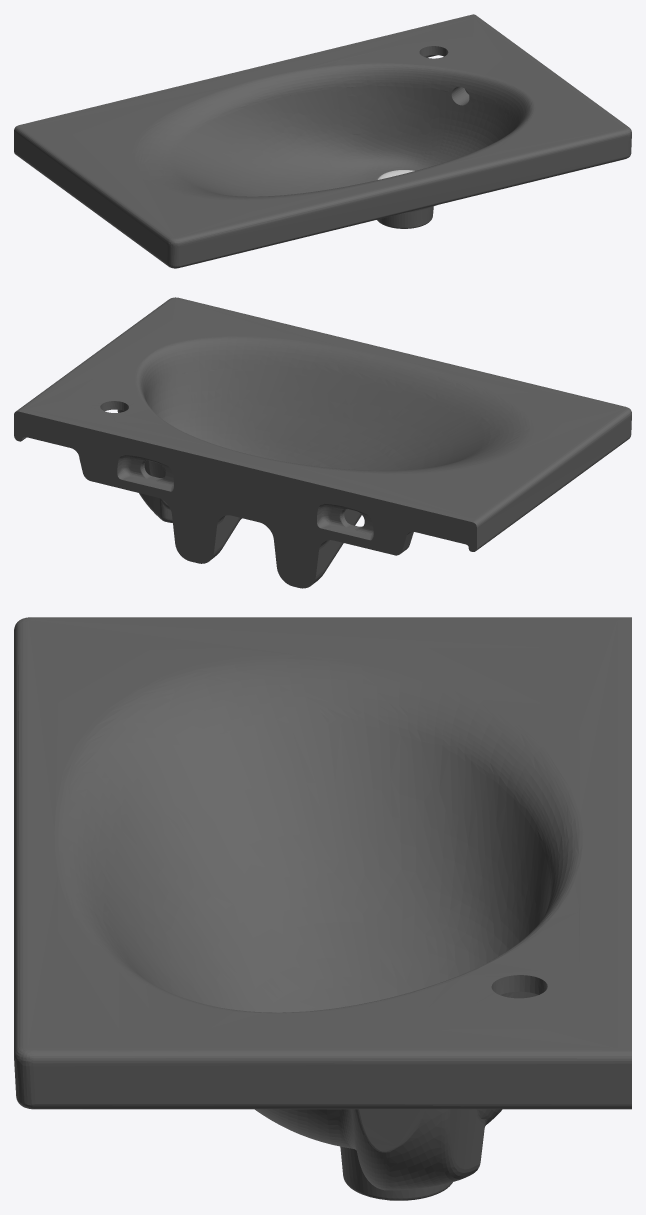
File: AEC_43487.glb
3 views of the same model, one above another, from view 1: azimuth 30°, elevation 25°; view 2: azimuth 150°, elevation 25°; view 3: azimuth 270°, elevation 25° (orthographic). The views are drawn at different scales.
Parts seen in each view (by area): view 1: 0; view 2: 0; view 3: 0.
Part boxes in pixels (x1,y1,x2,y2): 0: [14, 14, 631, 268]; 0: [14, 297, 631, 588]; 0: [14, 617, 631, 1200].
Size of the model in its own units: 0.6499 by 0.172 by 0.385.
Materials: 1 (1 with a texture image).
